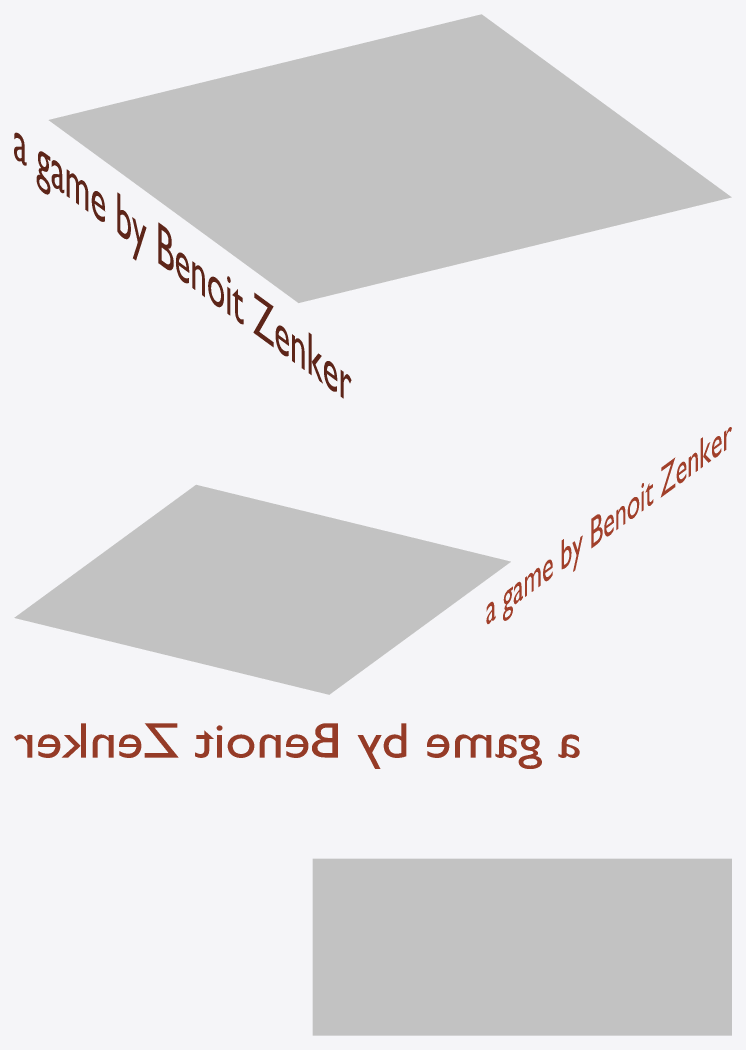
The model's file is terrain.glb.
The picture shows the model from 3 angles, top to bottom: view 1: azimuth 30°, elevation 25°; view 2: azimuth 150°, elevation 25°; view 3: azimuth 270°, elevation 25°; orthographic projection. The views are drawn at different scales.
Visible parts, largest first — view 1: Floor, credits; view 2: Floor, credits; view 3: Floor, credits.
Part boxes in pixels (x1,y1,x2,y2): Floor: (48, 14, 731, 302); credits: (14, 132, 351, 398); Floor: (14, 484, 510, 694); credits: (486, 427, 731, 623); Floor: (312, 858, 731, 1035); credits: (14, 723, 579, 768).
Bounding box in the file's own units: 9.73 × 3.26 × 12.92.
